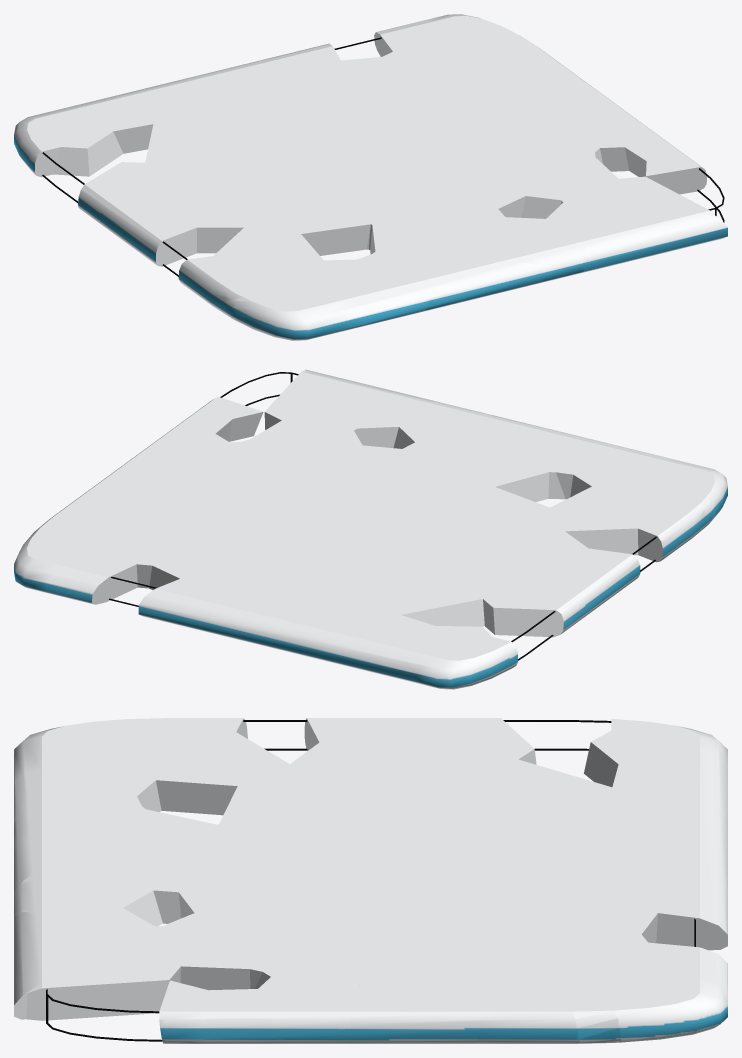
File: Step_TileStages.fbx
The picture shows the model from 3 angles, top to bottom: view 1: azimuth 30°, elevation 25°; view 2: azimuth 150°, elevation 25°; view 3: azimuth 270°, elevation 25°; orthographic projection. The views are drawn at different scales.
Visible parts, largest first — view 1: Step_Tile_Stage_09, Step_Tile_Stage_02, Step_Tile_Stage_03, Step_Tile_Stage_04, Step_Tile_Stage_07, Step_Tile_Stage_01, Step_Tile_Stage_06, Step_Tile_Stage_08, Step_Tile_Stage_05, Step_Tile_Stage_00; view 2: Step_Tile_Stage_07, Step_Tile_Stage_02, Step_Tile_Stage_04, Step_Tile_Stage_08, Step_Tile_Stage_01, Step_Tile_Stage_09, Step_Tile_Stage_06, Step_Tile_Stage_05, Step_Tile_Stage_03, Step_Tile_Stage_00; view 3: Step_Tile_Stage_06, Step_Tile_Stage_01, Step_Tile_Stage_04, Step_Tile_Stage_09, Step_Tile_Stage_08, Step_Tile_Stage_07, Step_Tile_Stage_05, Step_Tile_Stage_02, Step_Tile_Stage_03, Step_Tile_Stage_00.
Boxes of the visible parts, <box> form: Step_Tile_Stage_09: <box>188,14,727,301</box>; Step_Tile_Stage_02: <box>108,43,603,340</box>; Step_Tile_Stage_03: <box>53,60,707,326</box>; Step_Tile_Stage_04: <box>141,20,658,283</box>; Step_Tile_Stage_07: <box>14,61,618,230</box>; Step_Tile_Stage_01: <box>145,46,684,295</box>; Step_Tile_Stage_06: <box>171,71,627,228</box>; Step_Tile_Stage_08: <box>48,50,716,321</box>; Step_Tile_Stage_05: <box>197,34,536,266</box>; Step_Tile_Stage_00: <box>42,37,724,276</box>; Step_Tile_Stage_07: <box>210,420,593,689</box>; Step_Tile_Stage_02: <box>138,401,727,633</box>; Step_Tile_Stage_04: <box>47,404,562,604</box>; Step_Tile_Stage_08: <box>98,370,713,683</box>; Step_Tile_Stage_01: <box>52,410,650,626</box>; Step_Tile_Stage_09: <box>14,369,587,593</box>; Step_Tile_Stage_06: <box>88,440,497,619</box>; Step_Tile_Stage_05: <box>36,465,638,590</box>; Step_Tile_Stage_03: <box>196,396,660,649</box>; Step_Tile_Stage_00: <box>109,372,656,660</box>; Step_Tile_Stage_06: <box>129,783,657,1043</box>; Step_Tile_Stage_01: <box>47,758,620,1043</box>; Step_Tile_Stage_04: <box>14,733,727,1043</box>; Step_Tile_Stage_09: <box>14,742,727,1042</box>; Step_Tile_Stage_08: <box>26,718,727,1020</box>; Step_Tile_Stage_07: <box>179,718,727,990</box>; Step_Tile_Stage_05: <box>156,732,647,1043</box>; Step_Tile_Stage_02: <box>14,718,727,950</box>; Step_Tile_Stage_03: <box>14,730,715,1043</box>; Step_Tile_Stage_00: <box>46,720,695,1041</box>.
Size of the model in its own units: 4 by 0.2 by 4.
